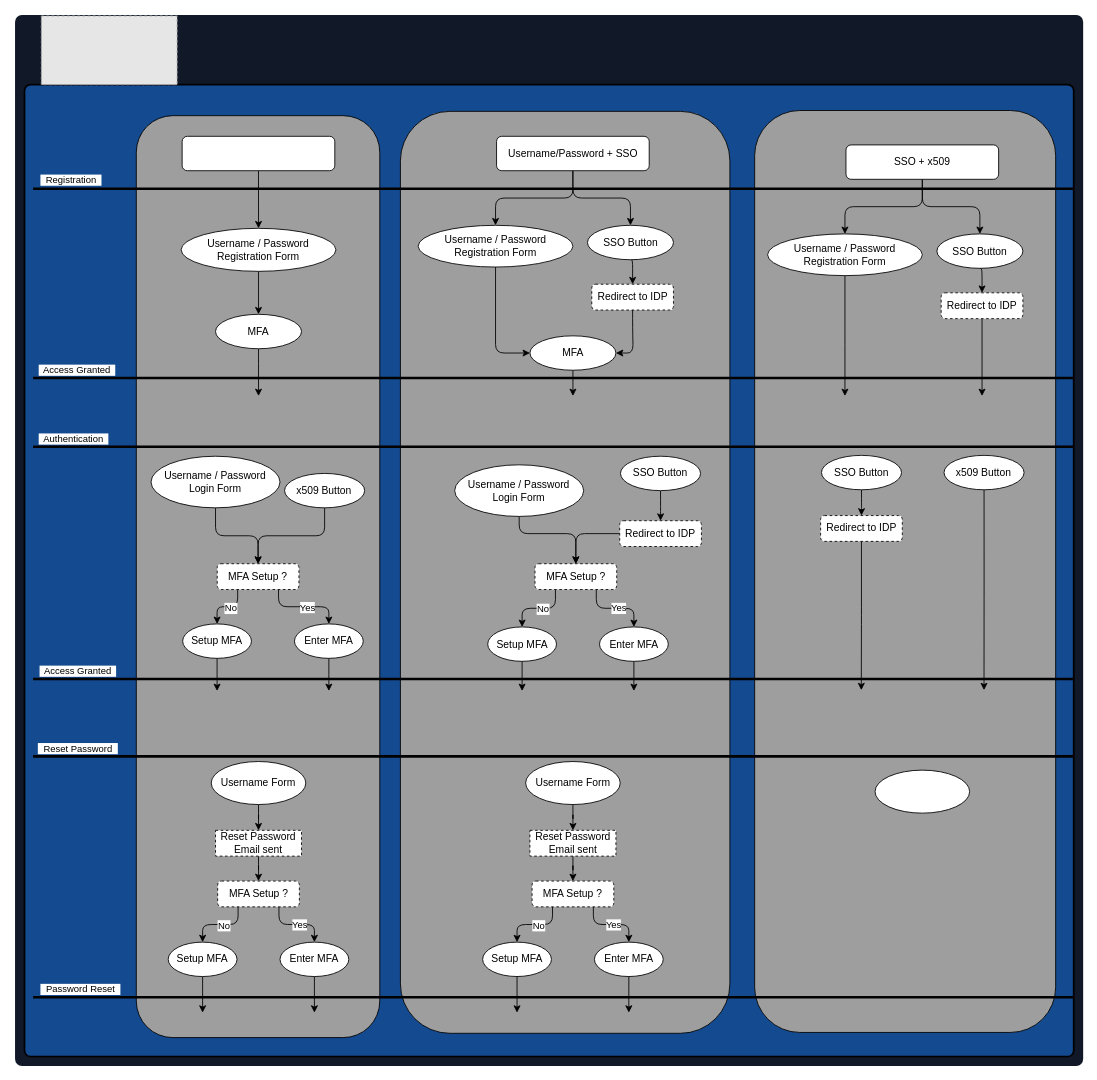
Image size: 1097x1080. Some labels were removed from this diagram. Grey dashed boxes stand in for pictures. Each missing label, with the centre of its shape:
Disabled: the point at 922,791
Username/Password + x509: the point at 258,153
